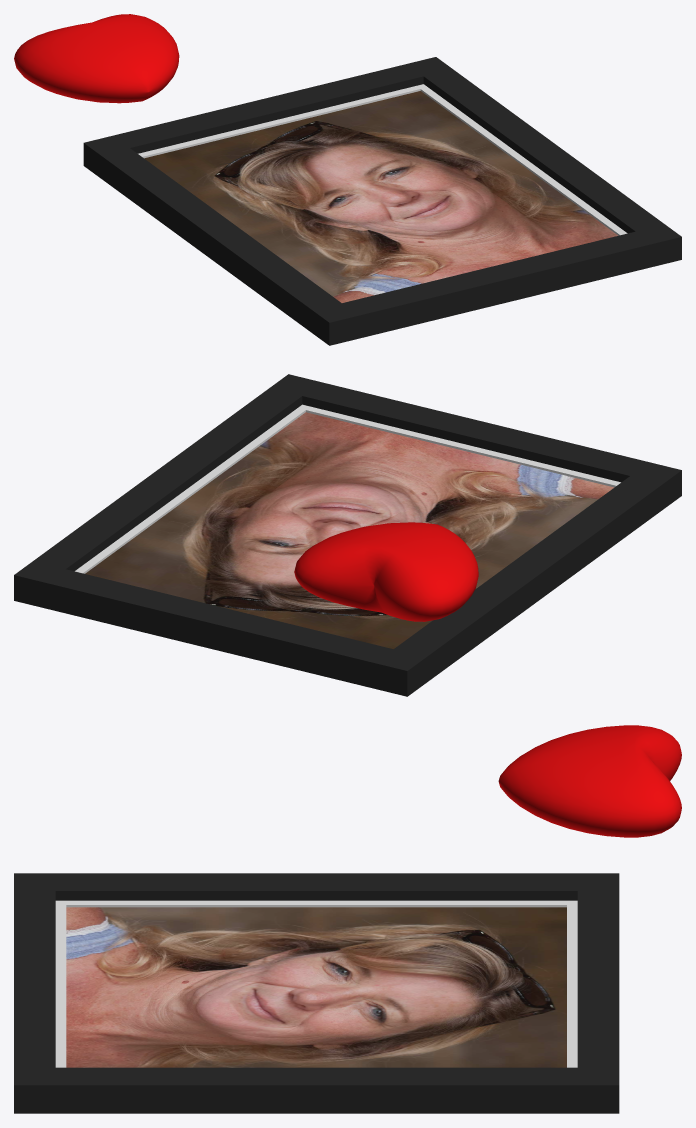
The picture shows the model from 3 angles, top to bottom: view 1: azimuth 30°, elevation 25°; view 2: azimuth 150°, elevation 25°; view 3: azimuth 270°, elevation 25°; orthographic projection. The views are drawn at different scales.
Visible parts, largest first — view 1: PhotoPlane.002, BuitenFrame, Hart, BinnenFrame; view 2: PhotoPlane.002, BuitenFrame, Hart, BinnenFrame; view 3: PhotoPlane.002, BuitenFrame, Hart, BinnenFrame.
Part boxes in pixels (x1,y1,x2,y2): PhotoPlane.002: (144, 91, 617, 302); BuitenFrame: (83, 57, 681, 345); Hart: (14, 14, 179, 103); BinnenFrame: (138, 84, 627, 235); PhotoPlane.002: (85, 412, 613, 648); BuitenFrame: (14, 374, 681, 696); Hart: (294, 522, 478, 621); BinnenFrame: (75, 404, 620, 573); PhotoPlane.002: (66, 907, 566, 1067); BuitenFrame: (14, 873, 619, 1113); Hart: (498, 725, 681, 837); BinnenFrame: (55, 900, 577, 1067).
Bounding box in the file's own units: 0.5563 × 0.1754 × 0.6401.
Materials: 4 (1 with a texture image).
